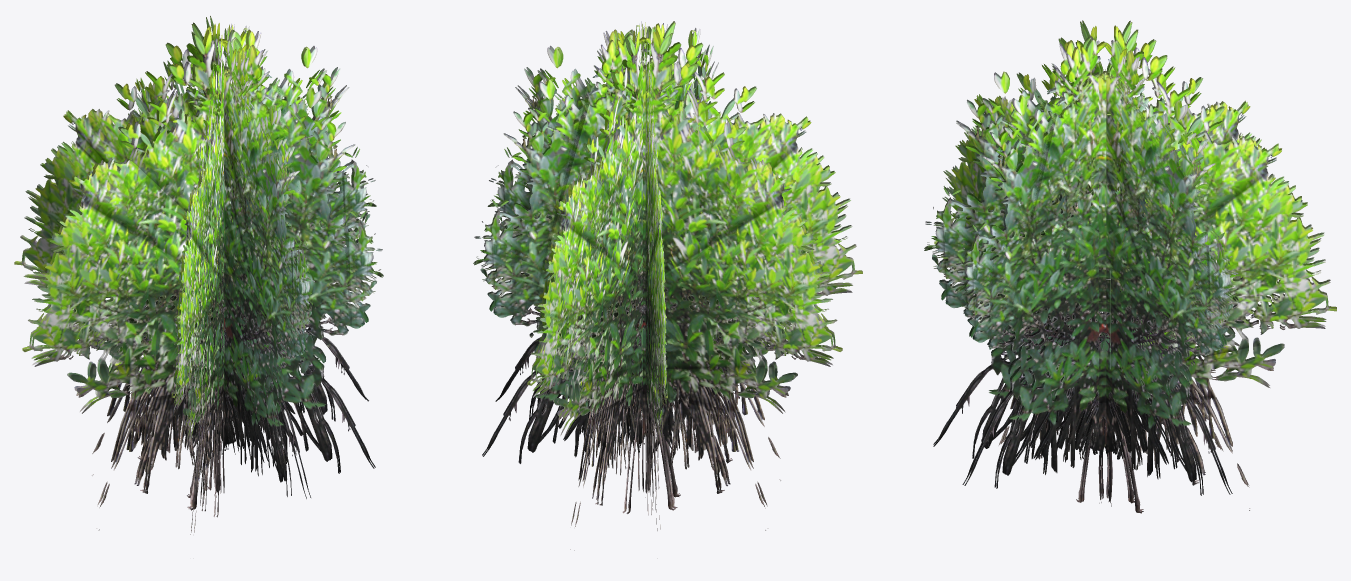
The model's file is mangle 1.fbx.
The picture shows the model from 3 angles, left to right: view 1: azimuth 30°, elevation 25°; view 2: azimuth 150°, elevation 25°; view 3: azimuth 270°, elevation 25°; orthographic projection.
Parts seen in each view (by area): view 1: rhizophora+apiculata, rhizophora+apiculata.003, rhizophora+apiculata.001, rhizophora+apiculata.002; view 2: rhizophora+apiculata, rhizophora+apiculata.001, rhizophora+apiculata.002, rhizophora+apiculata.003; view 3: rhizophora+apiculata.003, rhizophora+apiculata.001, rhizophora+apiculata.002.
Boxes of the visible parts, bbox=[...] form: rhizophora+apiculata: bbox=[22, 29, 376, 530]; rhizophora+apiculata.003: bbox=[14, 22, 383, 497]; rhizophora+apiculata.001: bbox=[128, 16, 315, 498]; rhizophora+apiculata.002: bbox=[171, 24, 249, 534]; rhizophora+apiculata: bbox=[487, 29, 842, 530]; rhizophora+apiculata.001: bbox=[527, 23, 718, 550]; rhizophora+apiculata.002: bbox=[473, 21, 862, 497]; rhizophora+apiculata.003: bbox=[634, 21, 667, 558]; rhizophora+apiculata.003: bbox=[955, 20, 1284, 503]; rhizophora+apiculata.001: bbox=[924, 29, 1336, 513]; rhizophora+apiculata.002: bbox=[934, 20, 1239, 503].
Bounding box in the file's own units: 77.56 × 97.22 × 77.56.
1 material, 1 textured.
